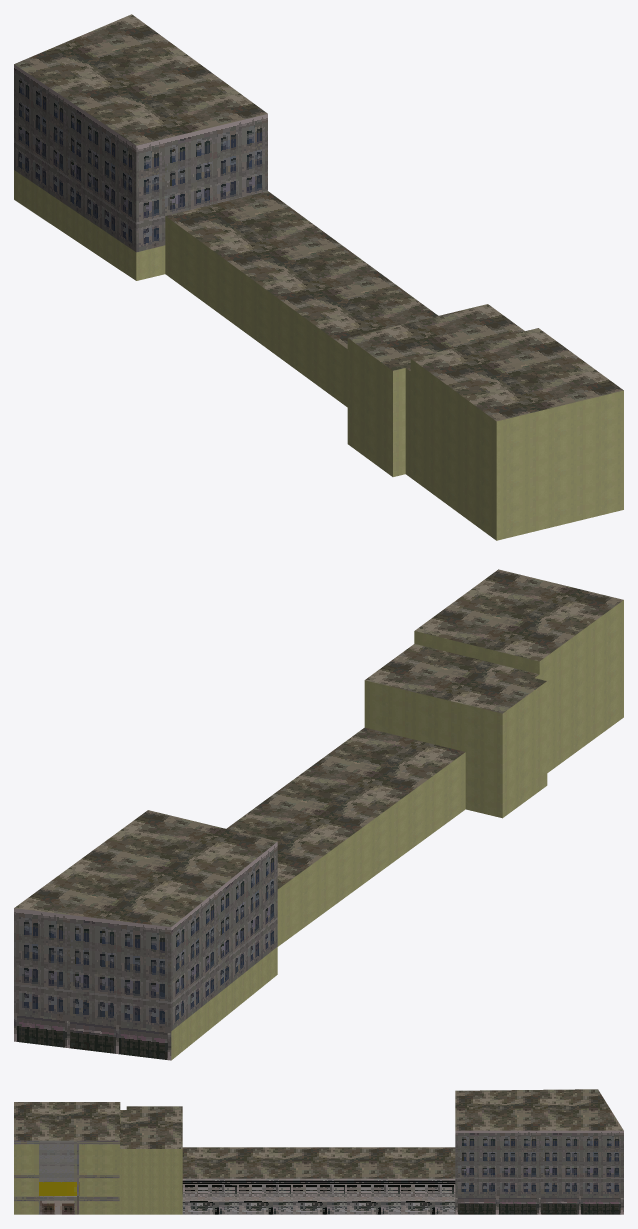
File: lodfigfree2_lan.obj
3 renders of one model, top to bottom at view 1: azimuth 30°, elevation 25°; view 2: azimuth 150°, elevation 25°; view 3: azimuth 270°, elevation 25°, orthographic. The views are drawn at different scales.
Visible parts, largest first — view 1: LODfigfree2_LAn; view 2: LODfigfree2_LAn; view 3: LODfigfree2_LAn.
Boxes of the visible parts, box(x1,y1,x2,y2) form: LODfigfree2_LAn: box(14, 14, 623, 540); LODfigfree2_LAn: box(14, 569, 623, 1060); LODfigfree2_LAn: box(14, 1089, 623, 1214).
Bounding box in the file's own units: 22.75 × 21.17 × 138.
5 materials, 5 textured.
